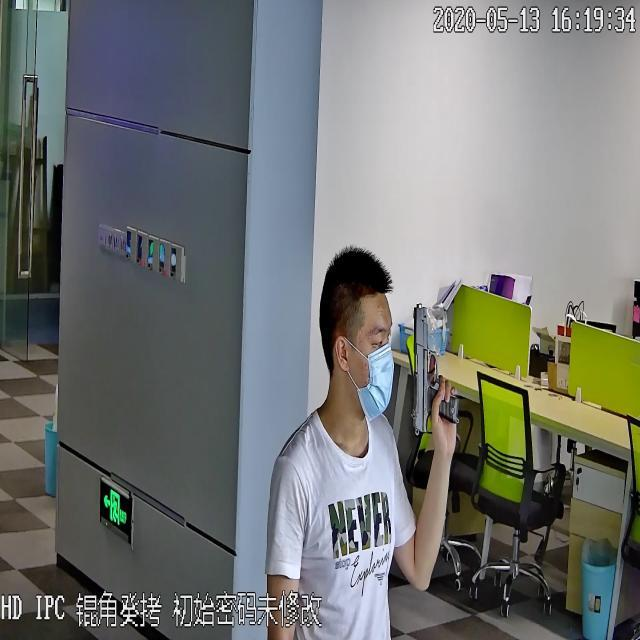gun: (402, 302, 460, 450)
